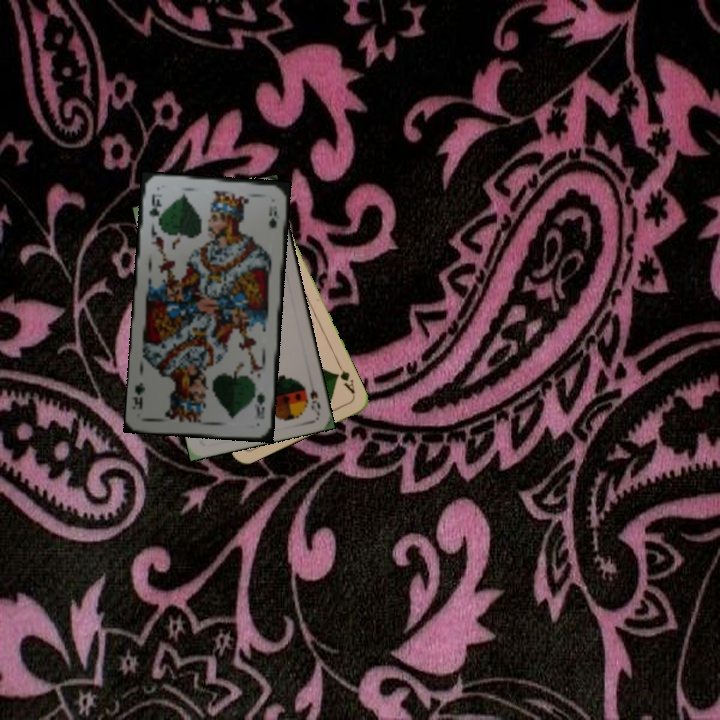GA: (332, 360, 358, 399)
GK: (145, 189, 163, 228), (250, 384, 267, 422)
SO: (306, 385, 323, 415)
